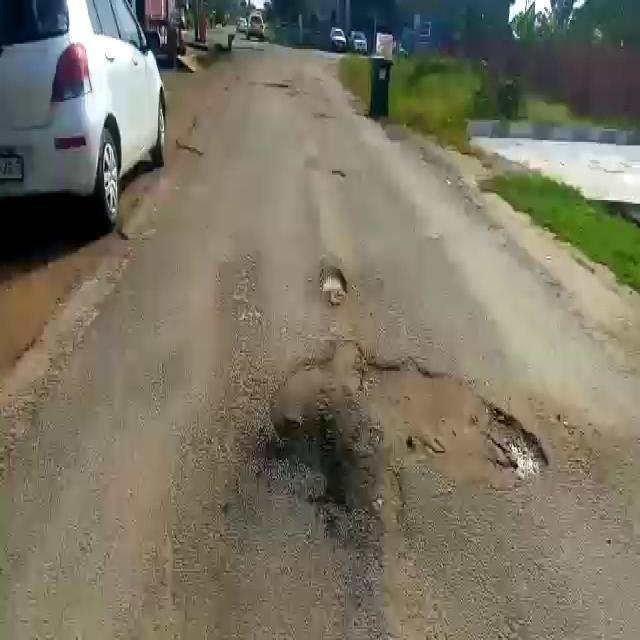pothole: (267, 342, 551, 497), (313, 267, 348, 308)
